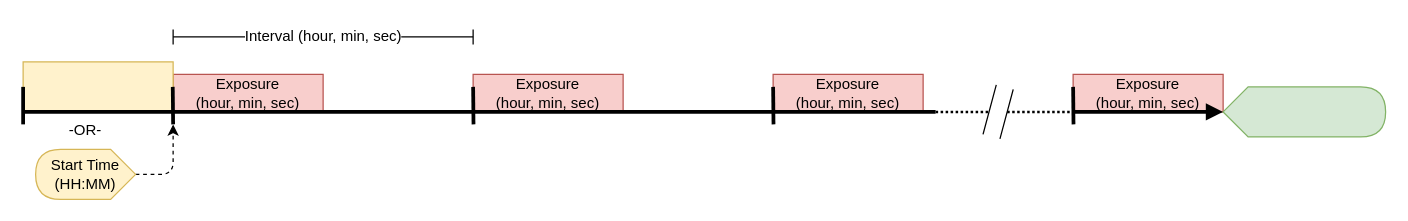
This 1408x221 diagram has some shape labels left out. The shapes that lost their labels are listed below. From the top down, each one's centre as x and y in pixels, then its label:
point 97,86: Initial Delay (hour, min, sec)
point 1304,111: Until: # Of Exposures
